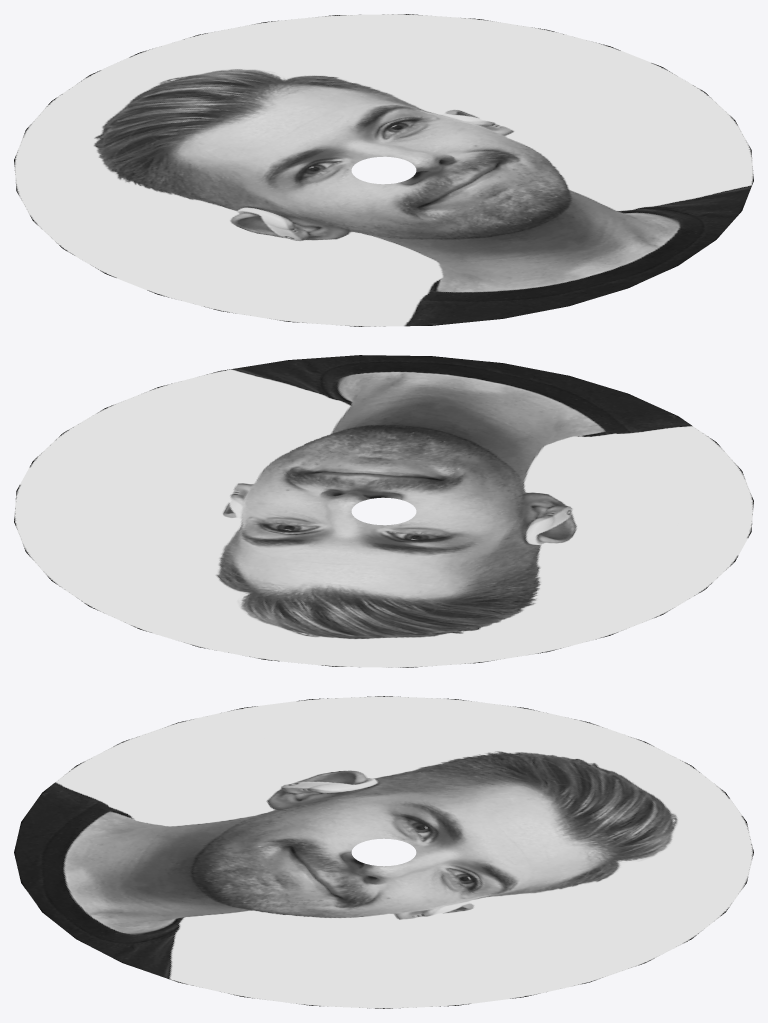
Rendered from vinyl.gltf.
3 renders of one model, top to bottom at view 1: azimuth 30°, elevation 25°; view 2: azimuth 150°, elevation 25°; view 3: azimuth 270°, elevation 25°, orthographic.
Visible parts, largest first — view 1: Cover; view 2: Cover; view 3: Cover.
Part boxes in pixels (x1=…): Cover: x1=14, y1=14, x2=753, y2=326; Cover: x1=14, y1=355, x2=753, y2=667; Cover: x1=14, y1=696, x2=753, y2=1008.
Size of what is drawn, in the model's own units: 0.0944 by 0 by 0.0944.
Materials: 1 (1 with a texture image).
